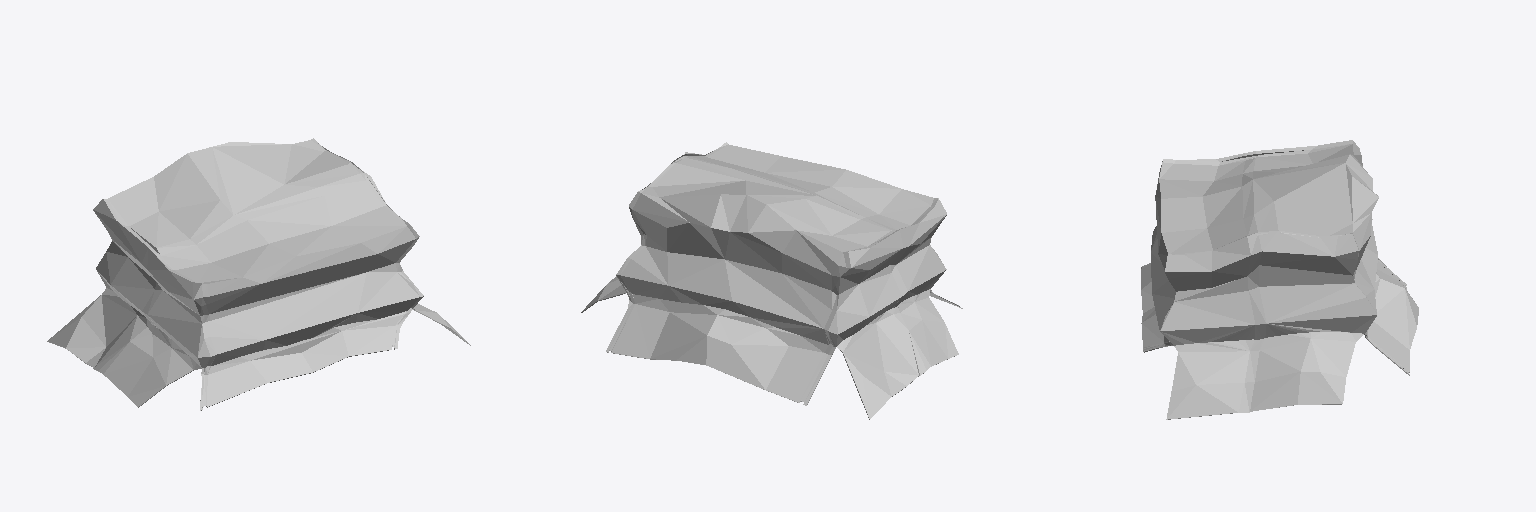
File: boxes3.obj
3 renders of one model, left to right at view 1: azimuth 30°, elevation 25°; view 2: azimuth 150°, elevation 25°; view 3: azimuth 270°, elevation 25°, orthographic.
Visible parts, largest first — view 1: BOX2; view 2: BOX2; view 3: BOX2.
Part boxes in pixels (x1,y1,x2,y2): BOX2: (47, 138, 470, 410); BOX2: (581, 142, 962, 419); BOX2: (1141, 140, 1418, 419).
Size of the model in its own units: 2.31 by 1.22 by 1.76.